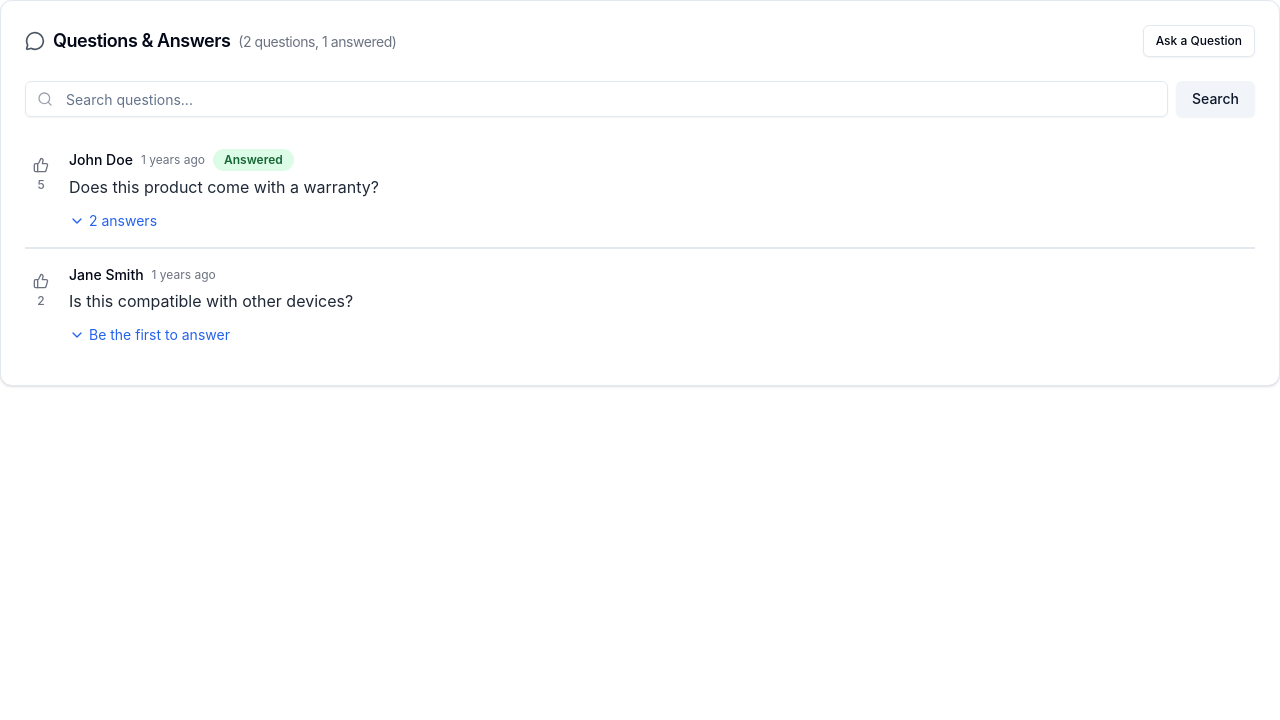
it: ProductQA › Answers › should expand answers when clicked
Expected: the text "2 answers" is shown, [89, 211, 157, 231]
Click the button "2 answers" at (113, 221), box [69, 211, 157, 231]
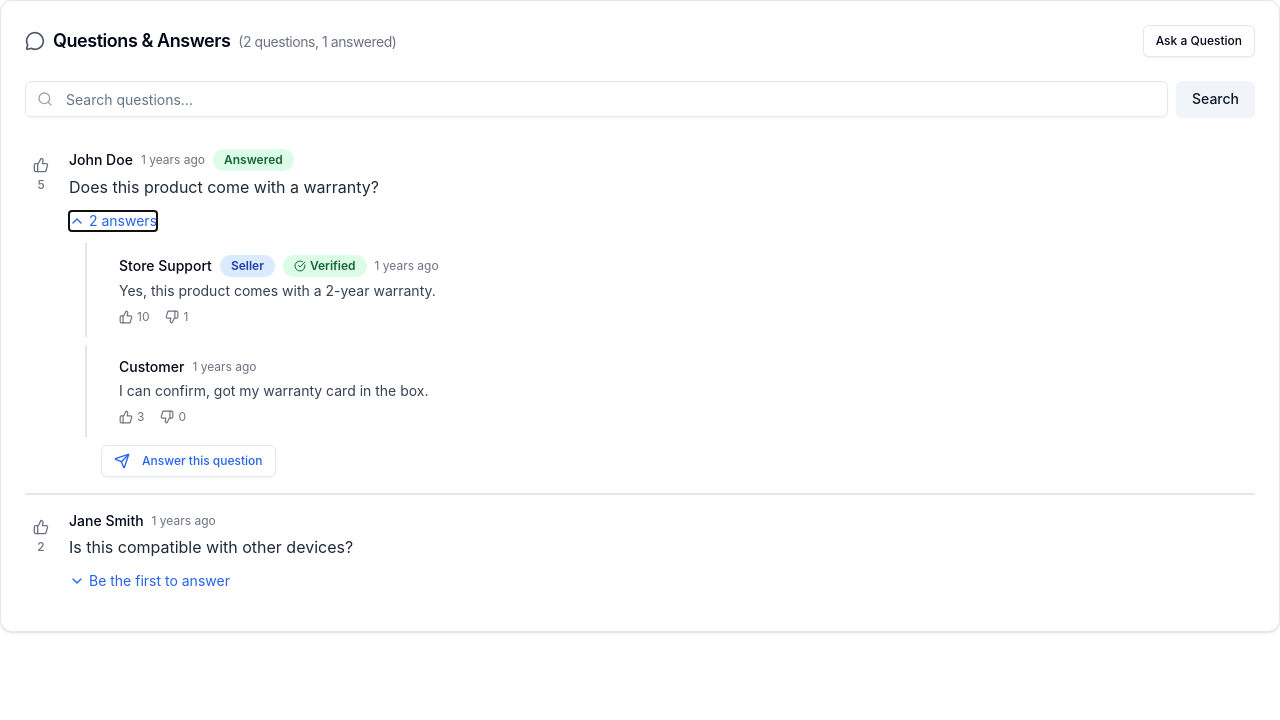
Expected: the text "Yes, this product comes with a 2-year warranty." is shown, [119, 282, 436, 299]
